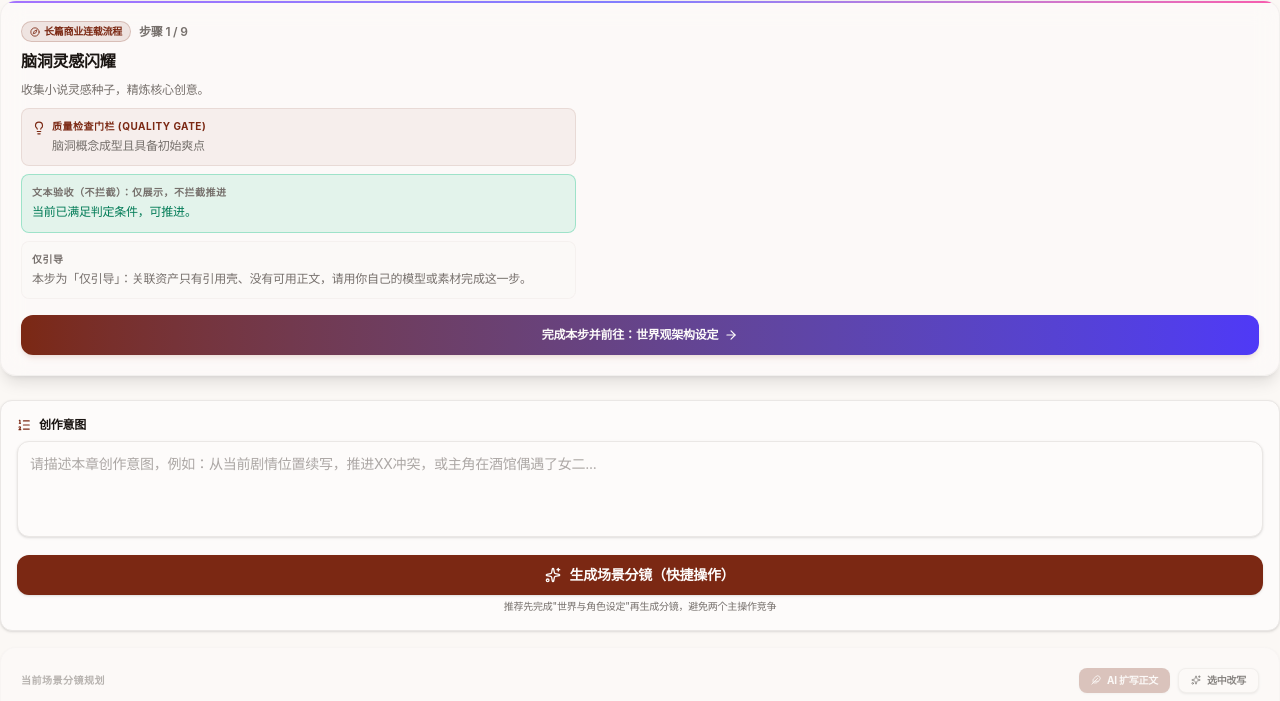
PlanningTab Step Progression › save failure displays error, does not advance, re-enables button
Click the button "完成本步并前往：世界观架构设定" at (640, 335), box [21, 315, 1259, 354]
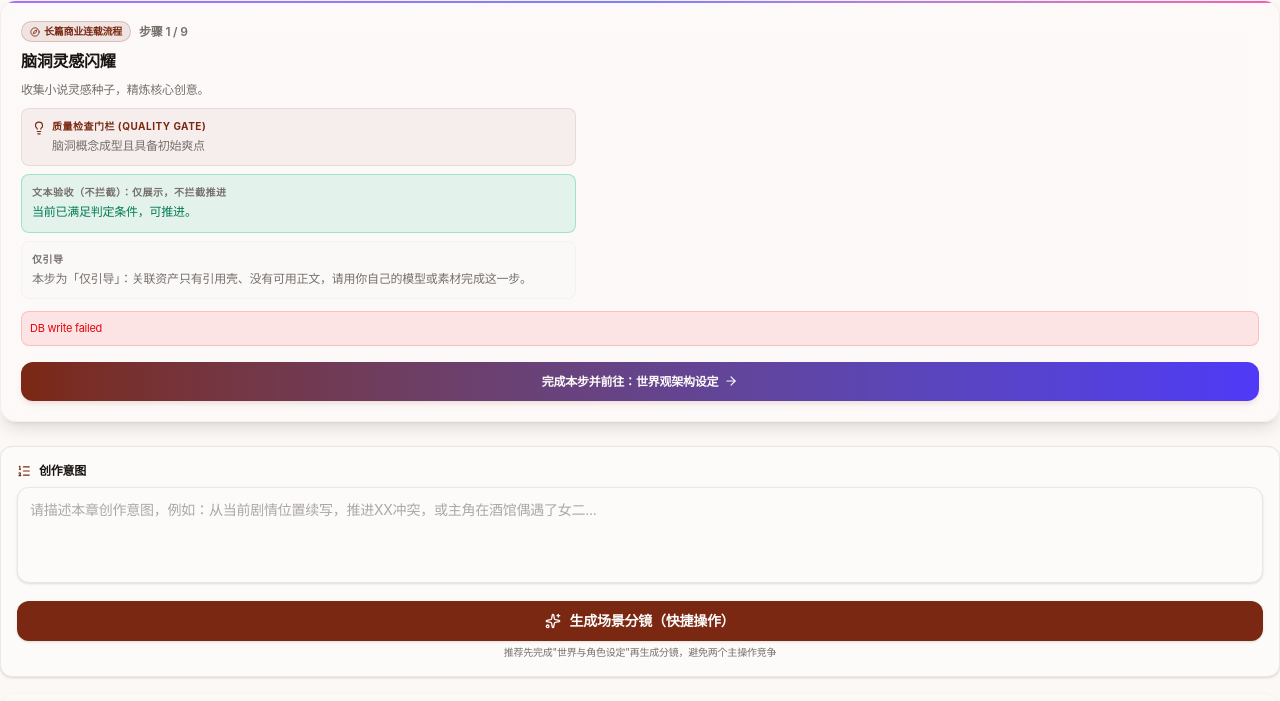
Expected: the button "完成本步并前往：世界观架构设定" is enabled, [21, 362, 1259, 401]
Result: the text "DB write failed" is shown at [21, 311, 1259, 346]
